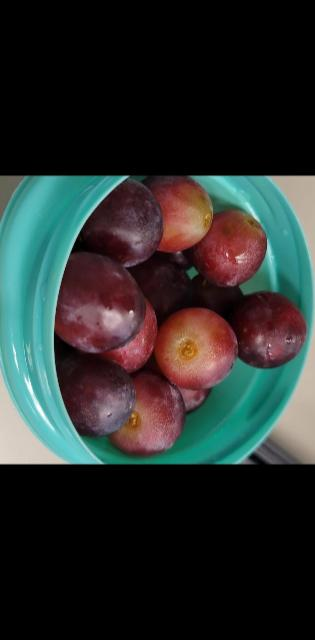Grapes: (59, 254, 146, 354), (152, 307, 237, 393), (183, 212, 274, 290), (92, 180, 164, 264), (230, 296, 307, 370), (151, 179, 214, 254), (70, 365, 134, 436), (116, 382, 180, 452)
